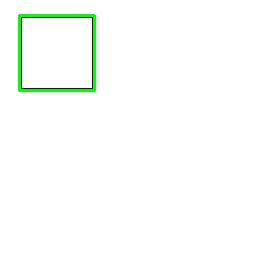line_segment: (18, 14, 96, 92)
